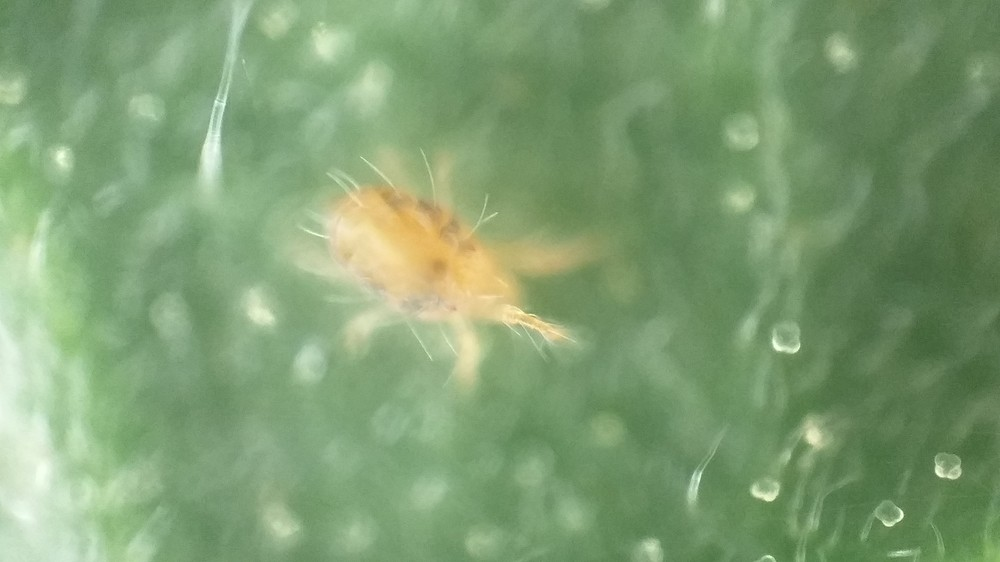Aracnido Rojo: (281, 149, 636, 397)
